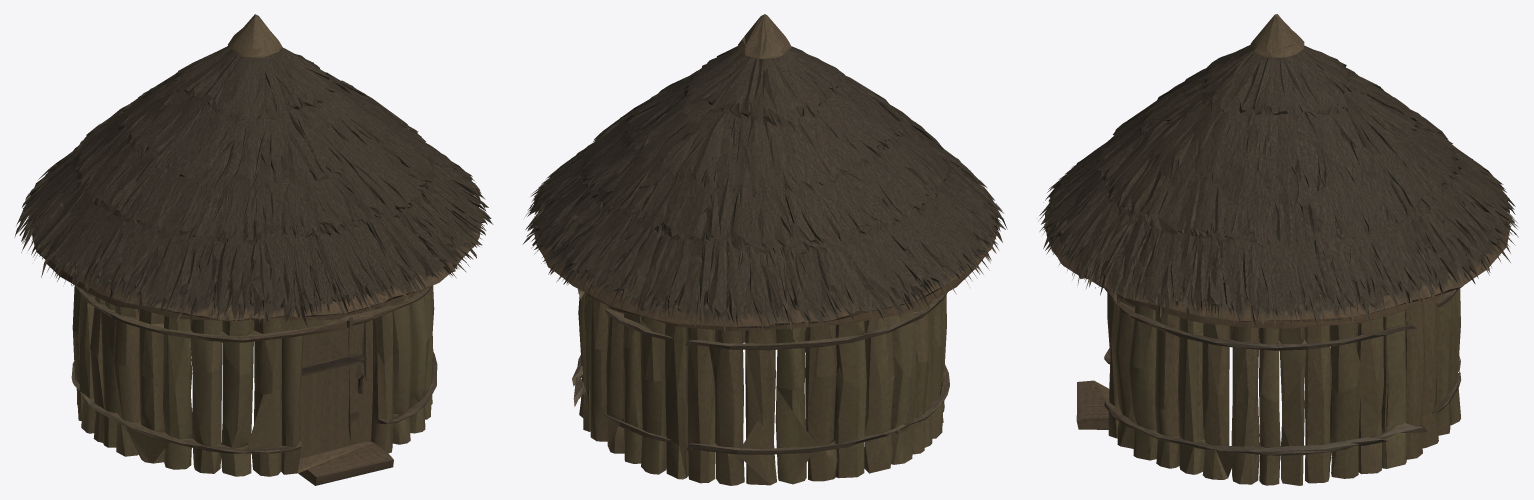
Rendered from hut_raw.glb.
The picture shows the model from 3 angles, left to right: view 1: azimuth 30°, elevation 25°; view 2: azimuth 150°, elevation 25°; view 3: azimuth 270°, elevation 25°; orthographic projection.
Bounding box in the file's own units: 1.9 × 1.71 × 1.89.
1 material, 1 textured.
